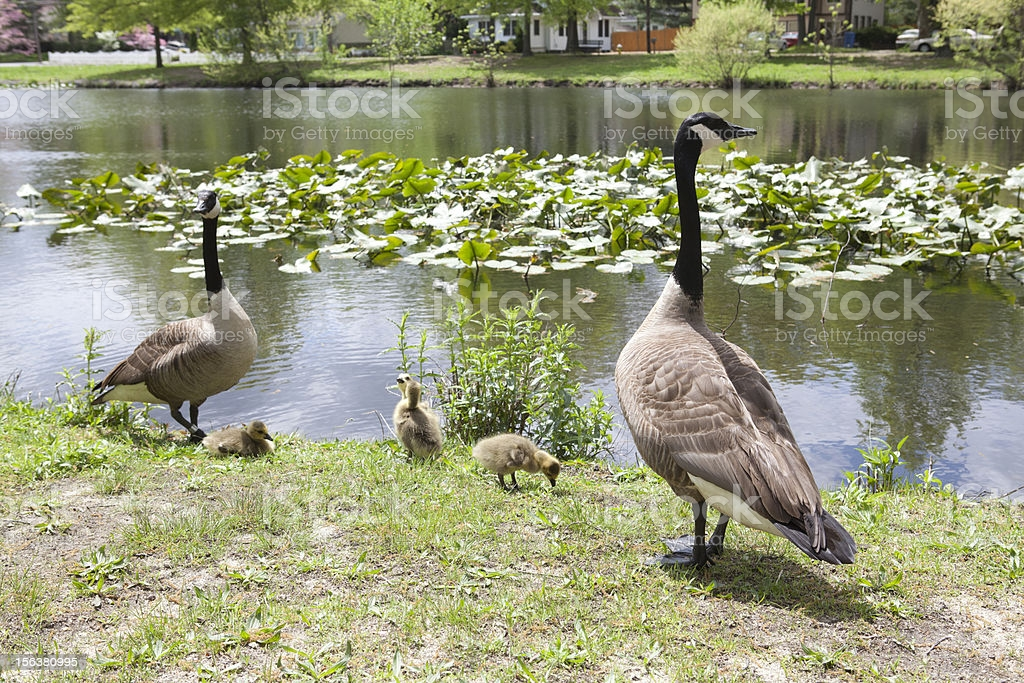goose: (611, 109, 860, 572), (86, 188, 262, 446)
